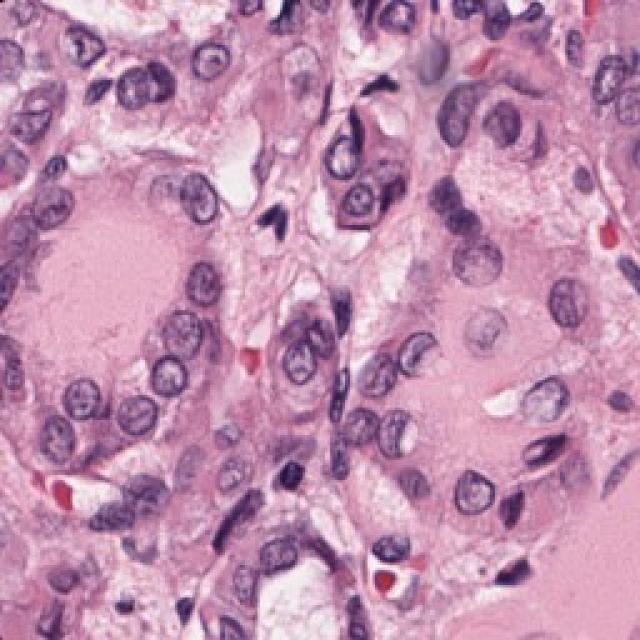abnormal: (437, 437, 518, 550), (175, 23, 250, 132), (100, 365, 180, 455), (422, 57, 490, 162), (362, 390, 435, 485), (533, 270, 610, 357), (307, 108, 380, 197), (137, 325, 205, 418), (397, 305, 453, 403), (47, 357, 117, 433), (165, 165, 230, 242), (25, 402, 102, 463), (350, 338, 410, 415), (279, 322, 329, 398)
